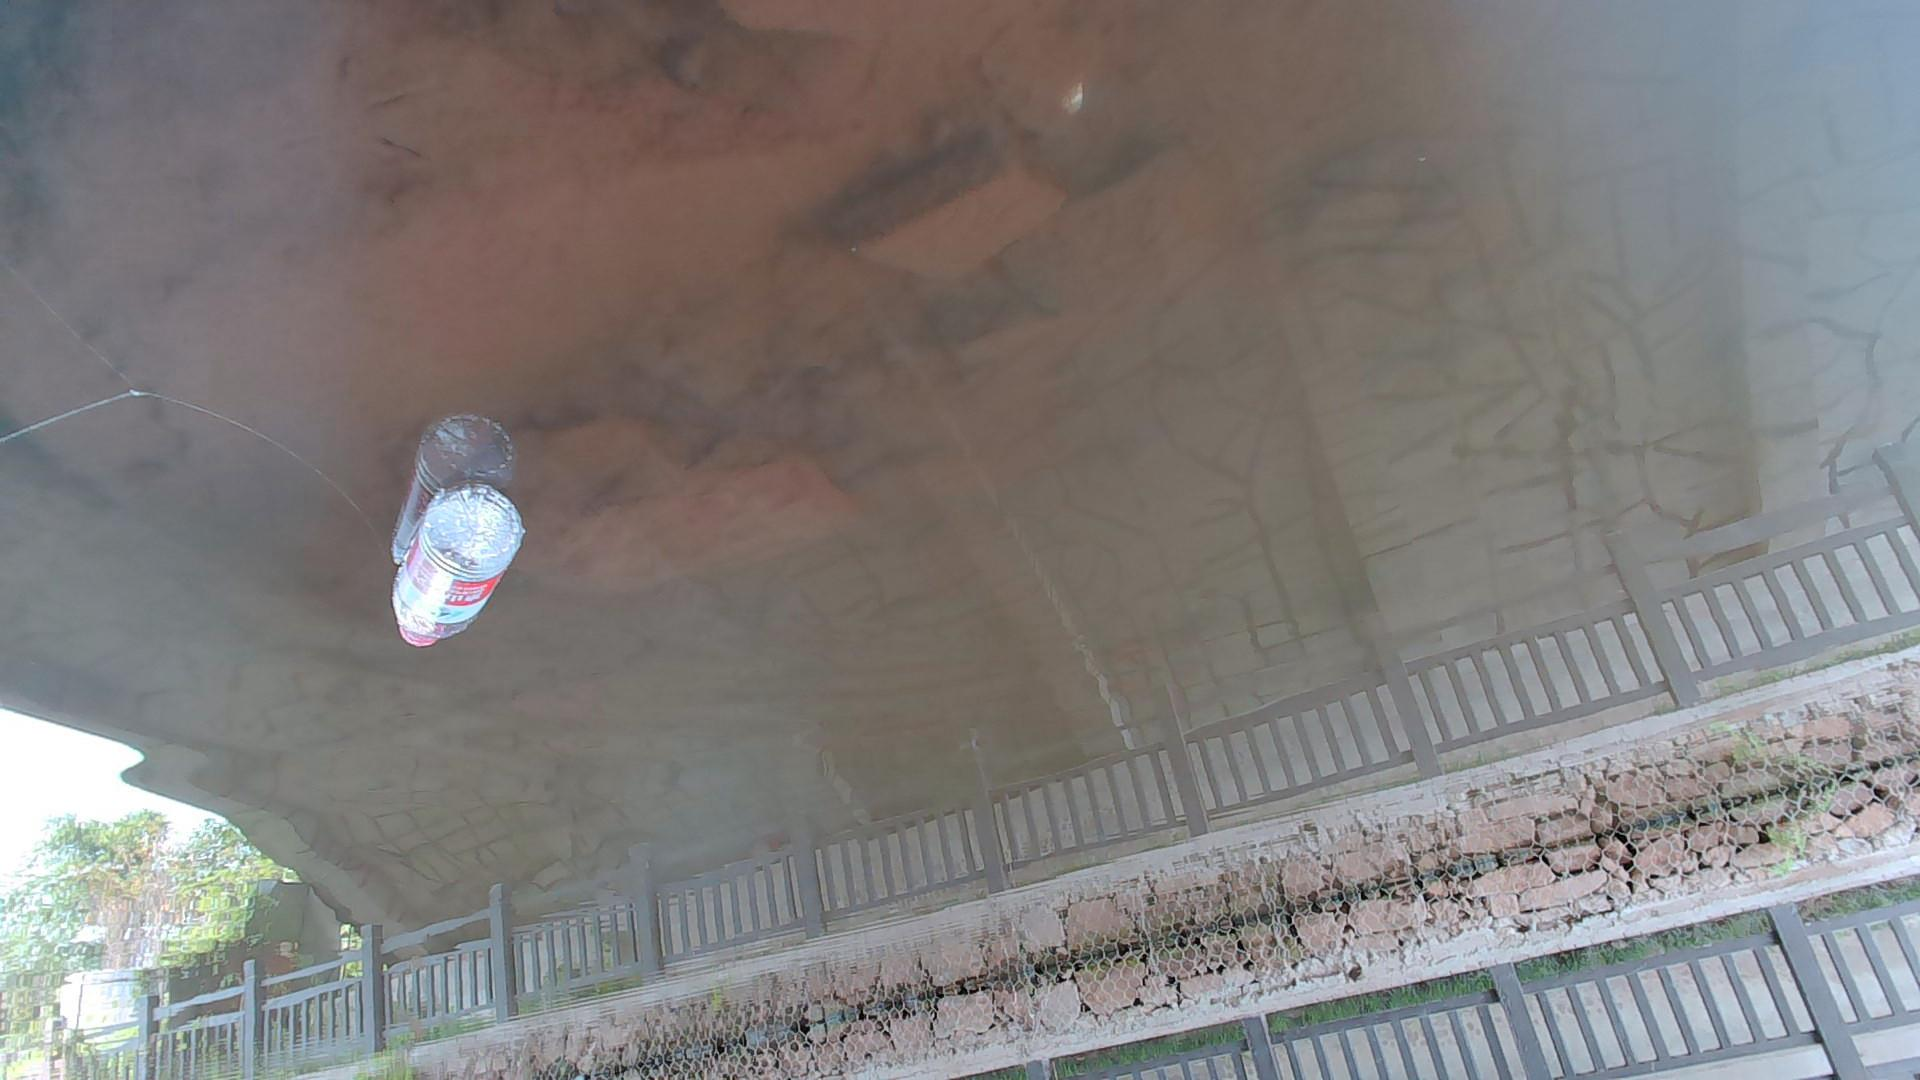Plastic: (386, 483, 529, 659)
